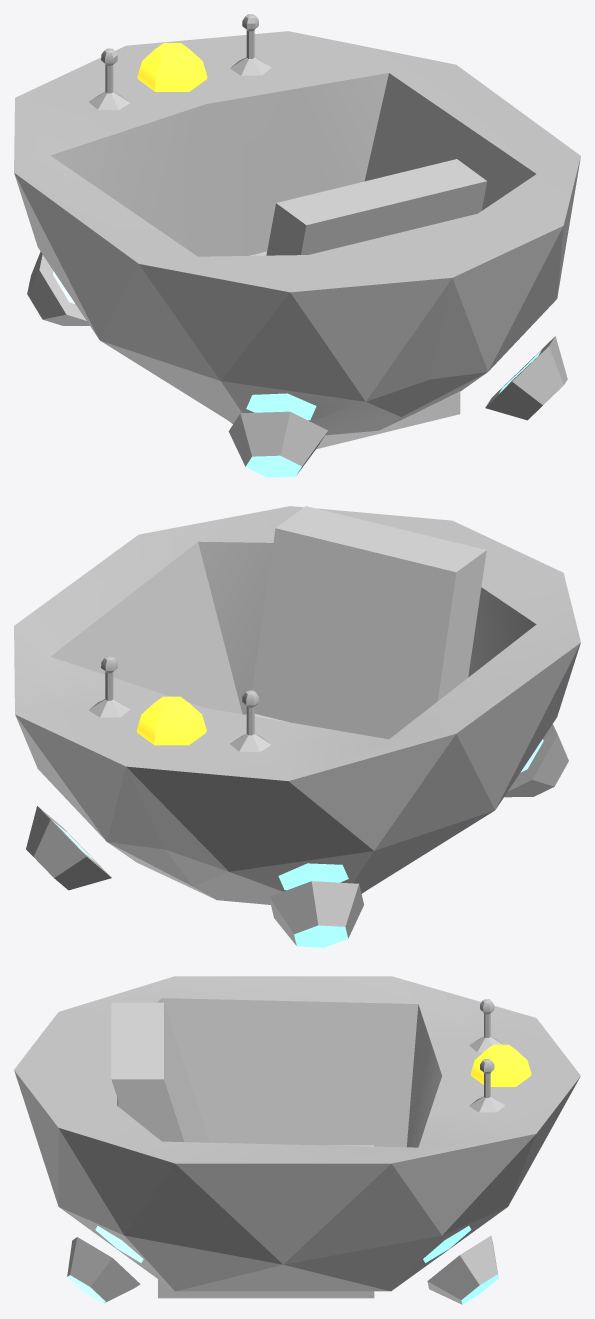
The model's file is pod.glb.
3 renders of one model, top to bottom at view 1: azimuth 30°, elevation 25°; view 2: azimuth 150°, elevation 25°; view 3: azimuth 270°, elevation 25°, orthographic. The views are drawn at different scales.
Parts seen in each view (by area): view 1: Time Pod, Seat; view 2: Time Pod, Seat; view 3: Time Pod, Seat.
Part boxes in pixels (bbox=[...]): Time Pod: bbox=[14, 14, 580, 477]; Seat: bbox=[230, 159, 487, 449]; Time Pod: bbox=[14, 506, 580, 947]; Seat: bbox=[245, 506, 486, 893]; Time Pod: bbox=[14, 976, 580, 1304]; Seat: bbox=[111, 1002, 374, 1298].
Size of the model in its own units: 1.22 by 0.7654 by 1.56.
